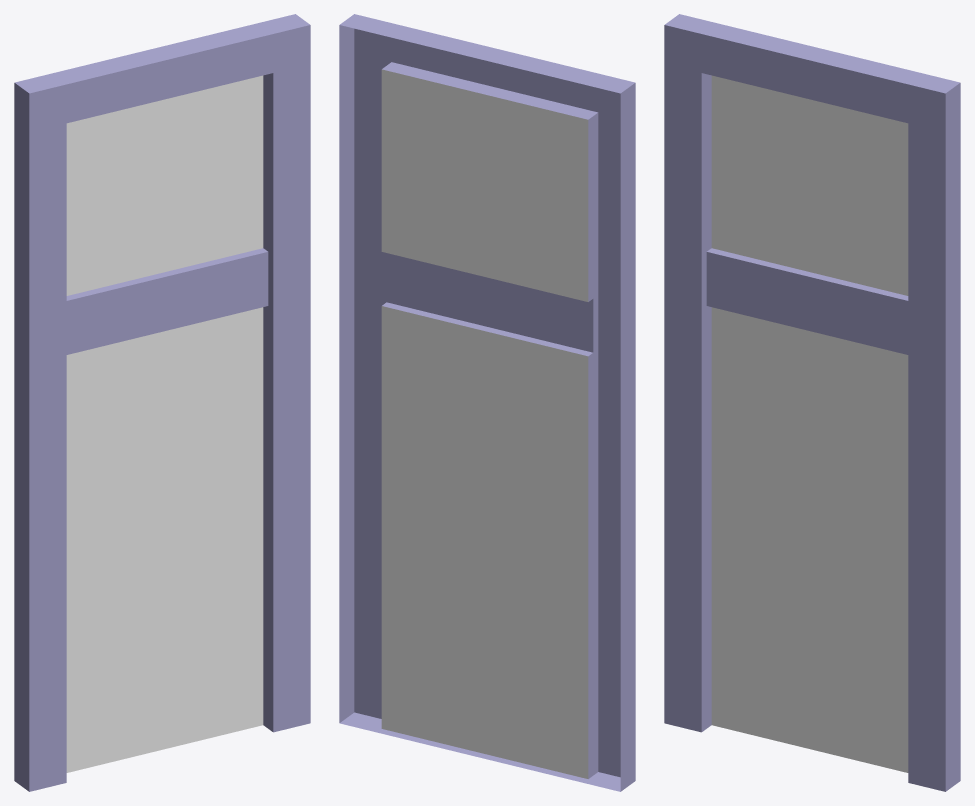
File: building_door1.obj
3 views of the same model, side by side, from view 1: azimuth 30°, elevation 25°; view 2: azimuth 150°, elevation 25°; view 3: azimuth 330°, elevation 25° (orthographic).
Parts seen in each view (by area): view 1: mergedBlocks; view 2: mergedBlocks; view 3: mergedBlocks.
Part boxes in pixels (x1,y1,x2,y2): mergedBlocks: (14, 14, 310, 791); mergedBlocks: (339, 14, 635, 791); mergedBlocks: (664, 14, 960, 791).
Bounding box in the file's own units: 0.326 × 0.7738 × 0.03.
